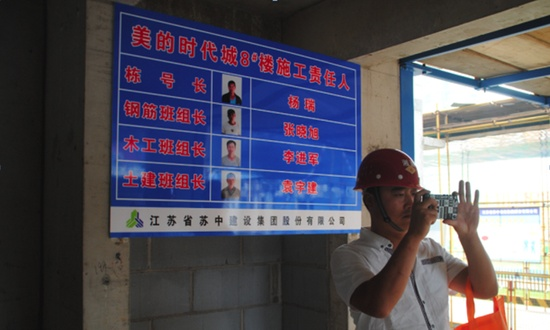red: (352, 145, 421, 236)
